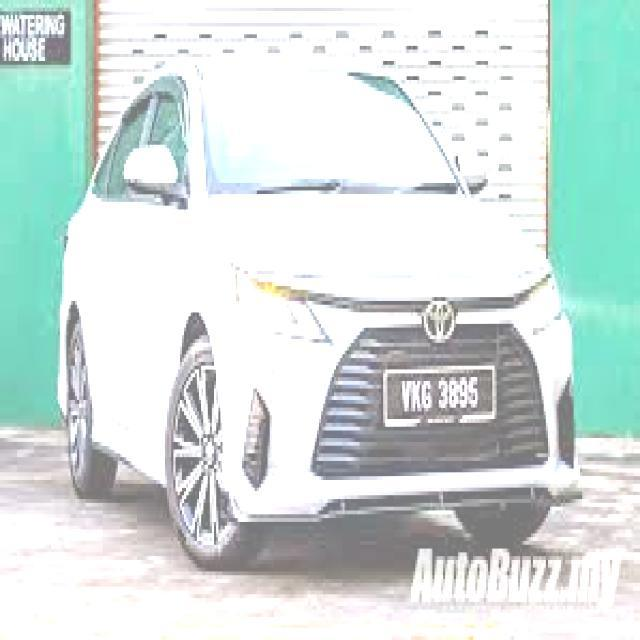ToyotaVios: (57, 54, 583, 571)
